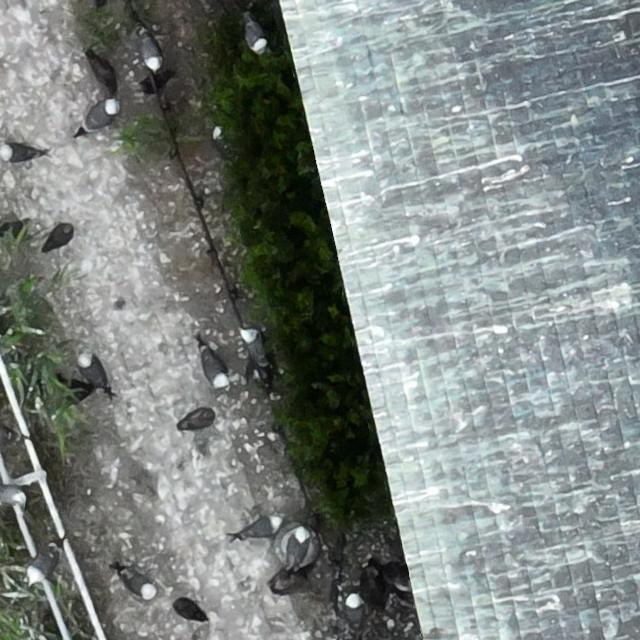umineko: (242, 328, 268, 379), (28, 546, 62, 582), (78, 352, 110, 389), (82, 99, 120, 128), (285, 527, 309, 567), (344, 592, 364, 634), (202, 354, 227, 386), (124, 572, 154, 598), (243, 516, 282, 534), (3, 146, 42, 162), (140, 37, 159, 69), (246, 23, 266, 53), (1, 488, 24, 506)
